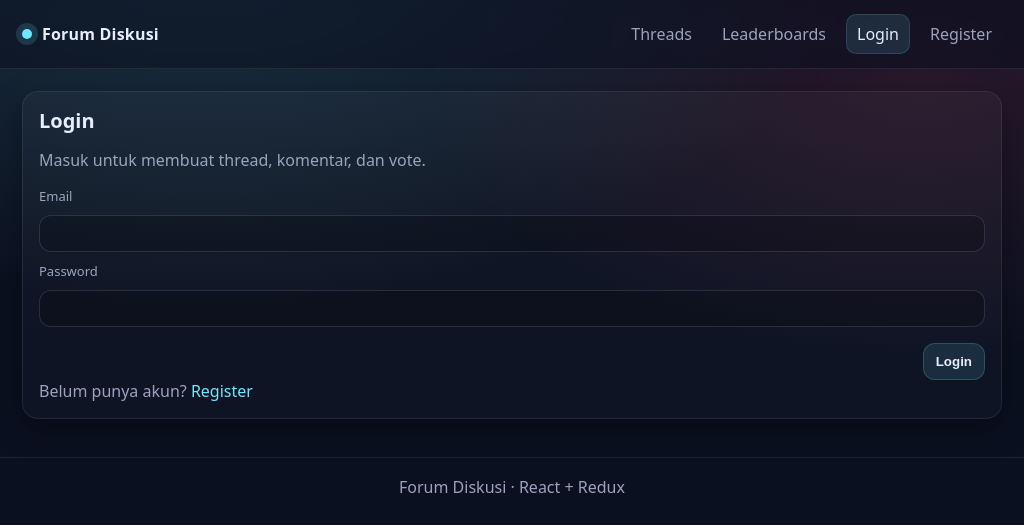
it: Login flow › should login successfully and show logout button
Type "cypress@test.com" into the field with id "email".
click(512, 234); type("cypress@test.com")  # box x1=39 y1=215 x2=985 y2=252
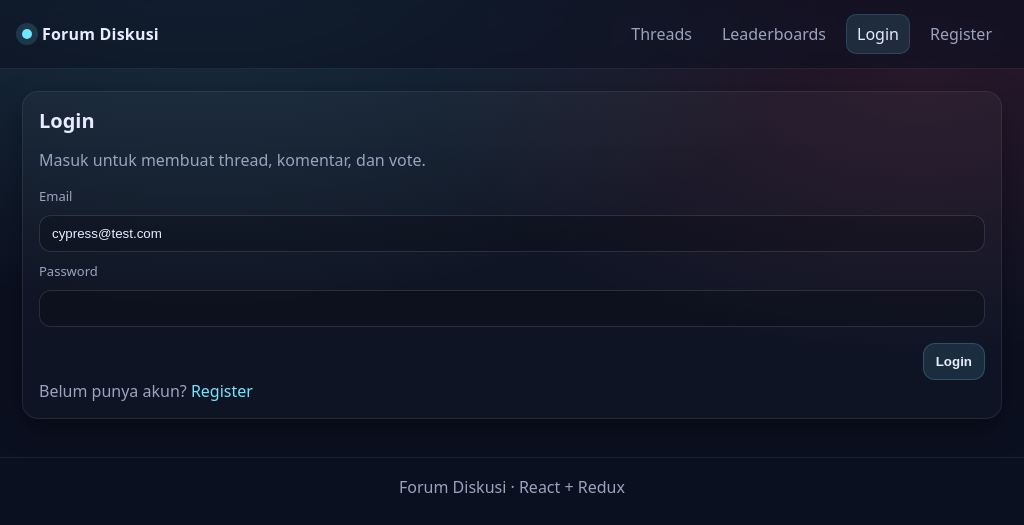
Type "cypress123" into the password field labelled "Password".
click(512, 309); type("cypress123")  # box x1=39 y1=290 x2=985 y2=327
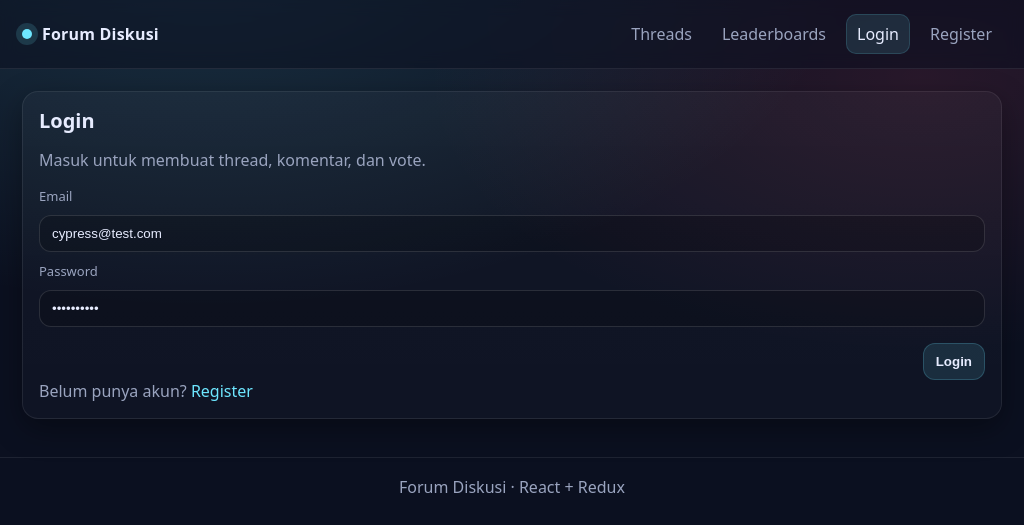
Click the button "Login".
click(954, 362)  # box x1=923 y1=343 x2=985 y2=380
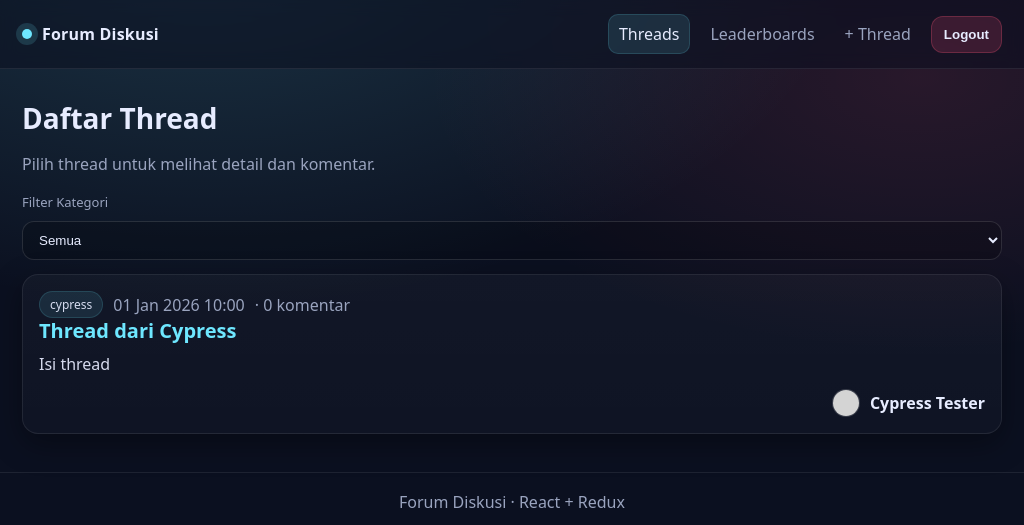
Check: the button "Logout" is shown, box x1=931 y1=16 x2=1002 y2=52
